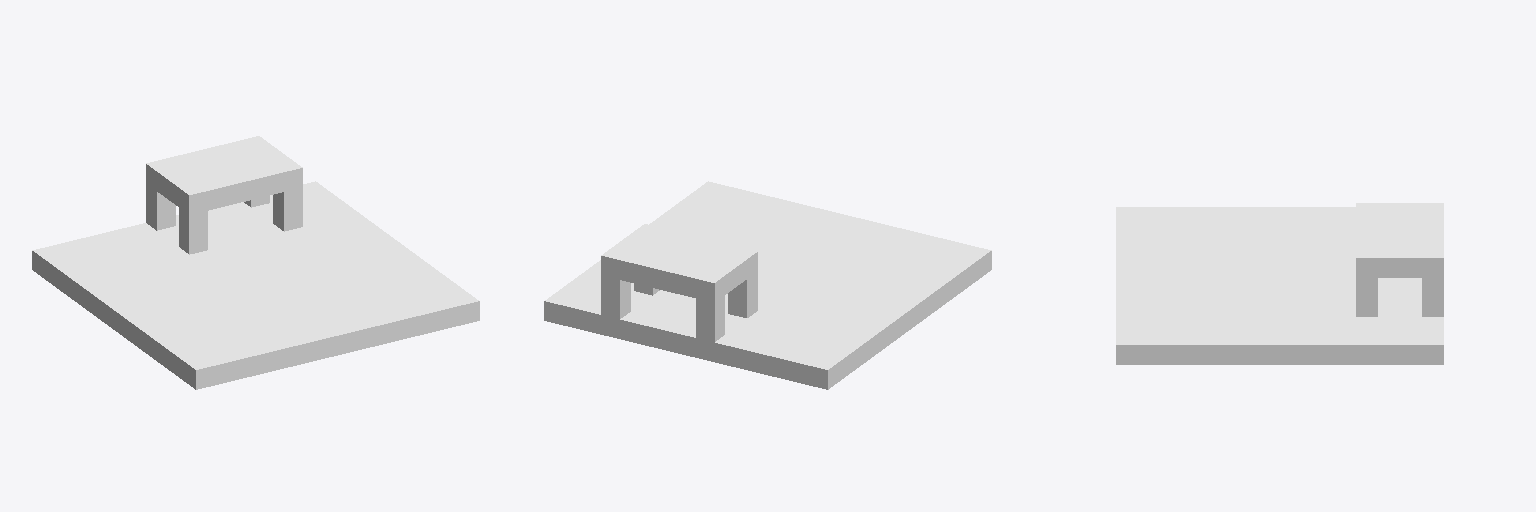
The model's file is anothertable.obj.
3 views of the same model, side by side, from view 1: azimuth 30°, elevation 25°; view 2: azimuth 150°, elevation 25°; view 3: azimuth 270°, elevation 25° (orthographic).
Bounding box in the file's own units: 15 × 4 × 15.